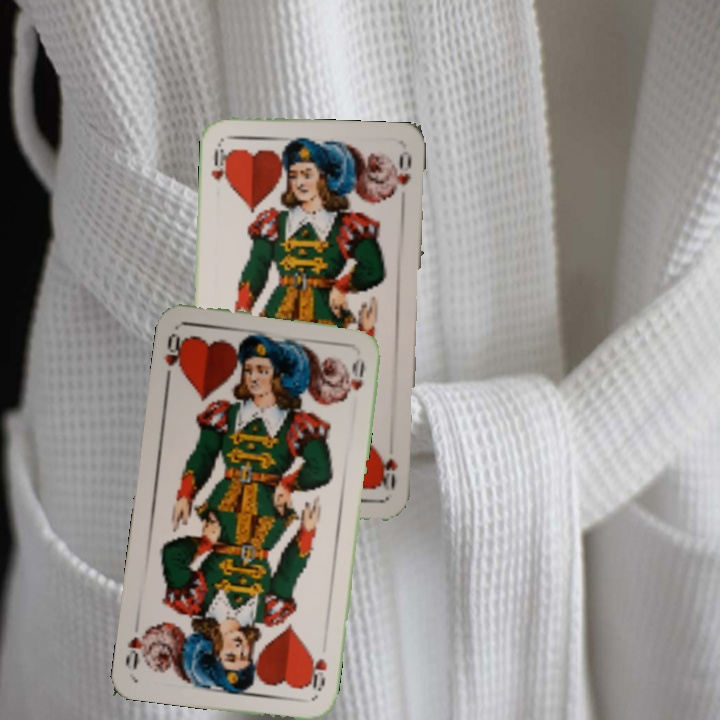HO: (159, 328, 188, 386), (207, 140, 233, 186), (304, 648, 330, 694), (379, 454, 401, 493)
